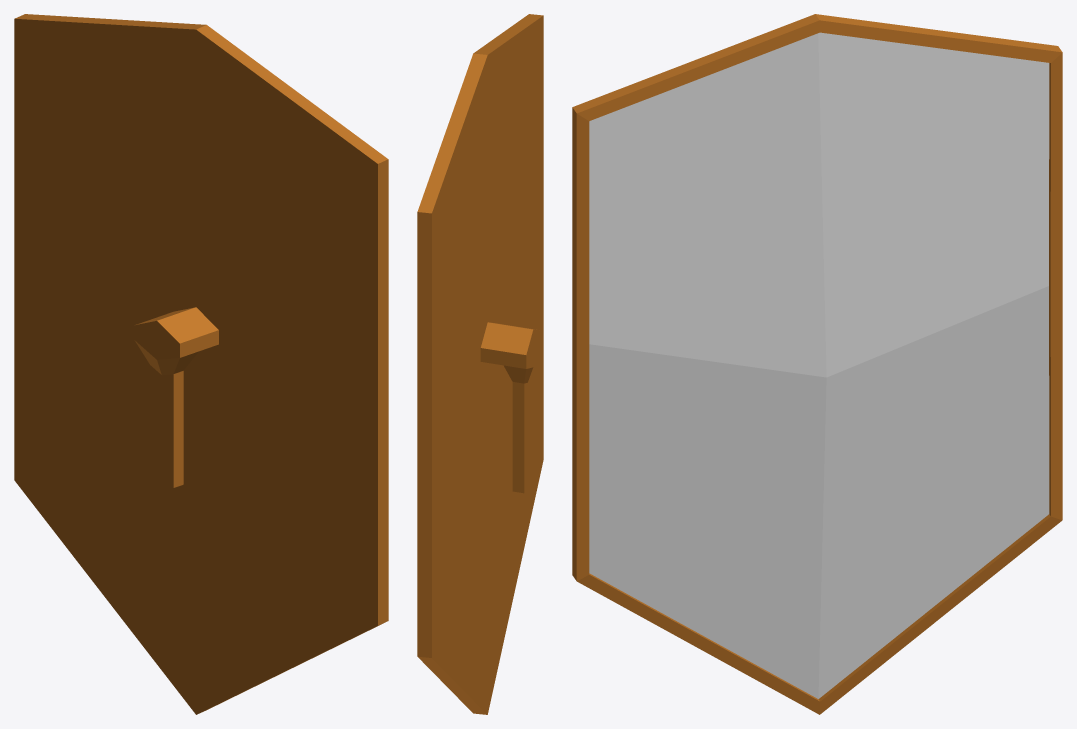
File: RoyalSheild.fbx
3 renders of one model, left to right at view 1: azimuth 30°, elevation 25°; view 2: azimuth 150°, elevation 25°; view 3: azimuth 270°, elevation 25°, orthographic. The views are drawn at different scales.
Parts seen in each view (by area): view 1: RoyalSheild; view 2: RoyalSheild; view 3: RoyalSheild.
Boxes of the visible parts, <box> form: RoyalSheild: <box>14,14,388,714</box>; RoyalSheild: <box>417,14,543,714</box>; RoyalSheild: <box>572,14,1062,714</box>.
Size of the model in its own units: 20.7 by 99.3 by 63.52.
